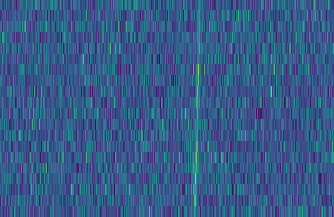signal: (190, 0, 204, 217)
